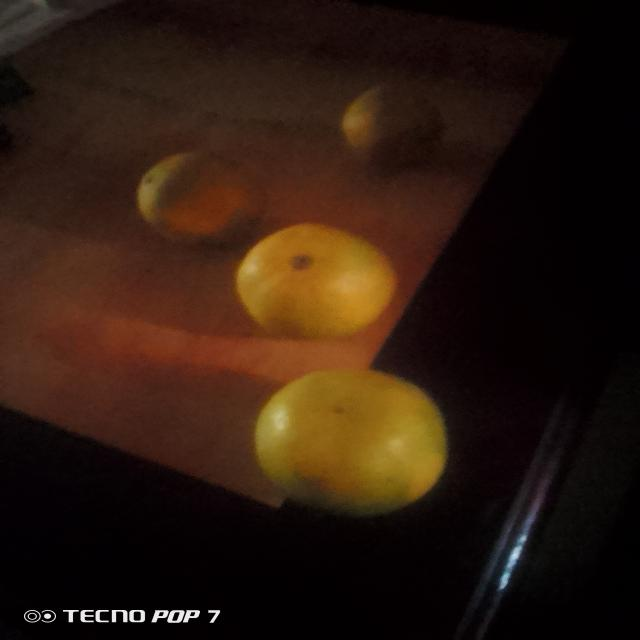Ripe orange: (227, 361, 463, 496), (228, 222, 398, 337), (324, 70, 447, 180), (144, 141, 230, 239)
